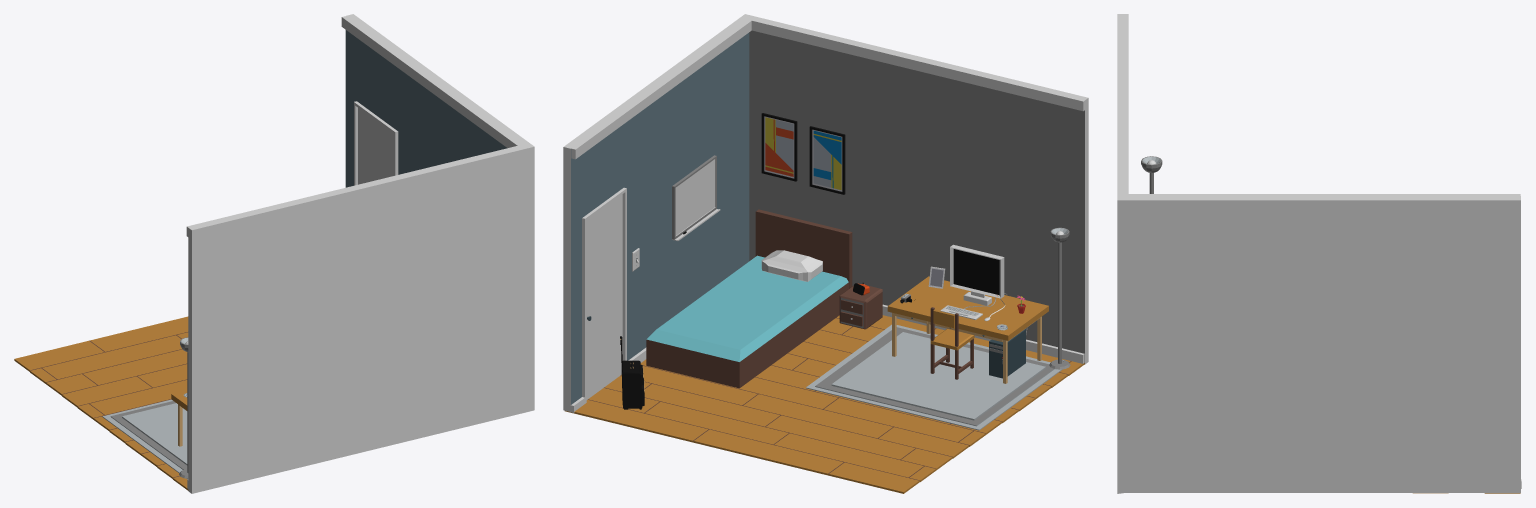
File: room.gltf
3 renders of one model, left to right at view 1: azimuth 30°, elevation 25°; view 2: azimuth 150°, elevation 25°; view 3: azimuth 270°, elevation 25°, orthographic. The views are drawn at different scales.
Visible parts, largest first — view 1: node_MeshObject-590880576-PolyPaper22, node_MeshObject-406843712-PolyPaper23, node_MeshObject-434685888-PolyPaper23; view 2: node_MeshObject-590880576-PolyPaper22, node_MeshObject-406843712-PolyPaper23, node_MeshObject-434685888-PolyPaper23, node_MeshObject111876352-PolyPaper22; view 3: node_MeshObject-590880576-PolyPaper22, node_MeshObject-406843712-PolyPaper23.
Part boxes in pixels (left/top/right/bottom): node_MeshObject-590880576-PolyPaper22: left=188, top=14, right=534, bottom=493; node_MeshObject-406843712-PolyPaper23: left=14, top=16, right=523, bottom=490; node_MeshObject-434685888-PolyPaper23: left=179, top=101, right=398, bottom=478; node_MeshObject-590880576-PolyPaper22: left=563, top=14, right=1088, bottom=411; node_MeshObject-406843712-PolyPaper23: left=565, top=18, right=1084, bottom=493; node_MeshObject-434685888-PolyPaper23: left=582, top=187, right=1070, bottom=409; node_MeshObject111876352-PolyPaper22: left=862, top=276, right=1048, bottom=383; node_MeshObject-590880576-PolyPaper22: left=1117, top=14, right=1520, bottom=493; node_MeshObject-406843712-PolyPaper23: left=1124, top=14, right=1521, bottom=493.
Size of the model in its own units: 4.04 by 2.97 by 3.71.
